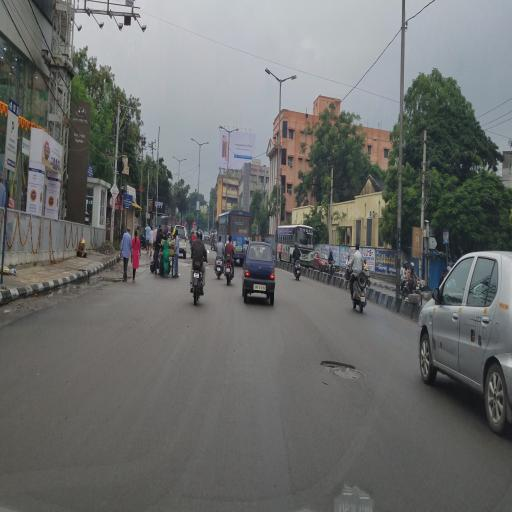street_light_0: (276, 62, 300, 94), (259, 65, 279, 87), (185, 130, 200, 152), (198, 130, 212, 150), (170, 146, 181, 168), (178, 152, 189, 170), (230, 121, 240, 138), (219, 120, 229, 137)
